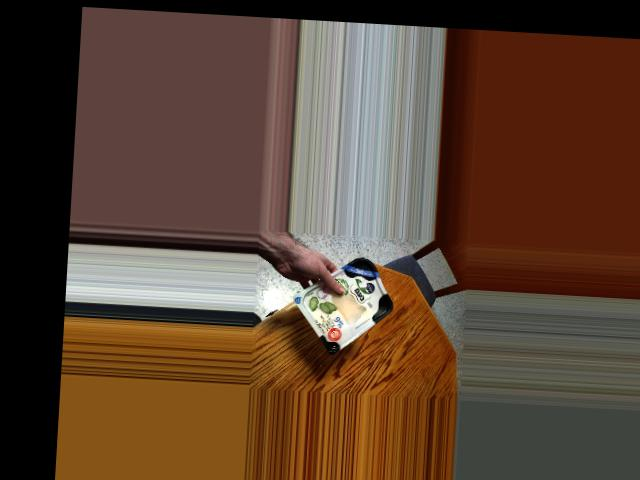cheese: (306, 252, 396, 349)
